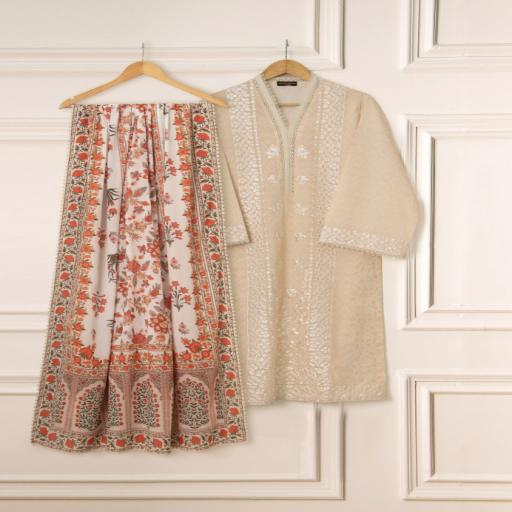dupatta: (26, 96, 254, 455)
kameez: (182, 80, 420, 412)
